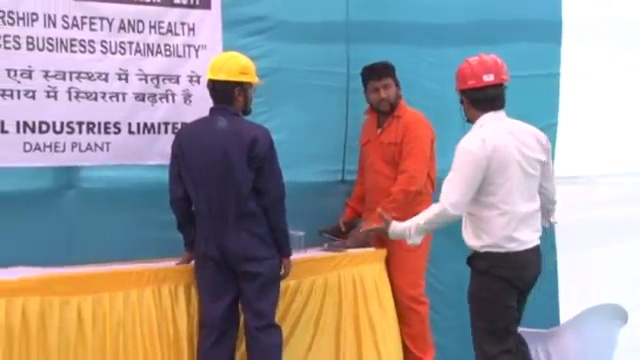helmet: (452, 52, 512, 92), (204, 50, 266, 85)
helmet_off: (359, 59, 403, 119)
helmet_on: (451, 52, 514, 124), (203, 51, 267, 115)
person: (358, 52, 561, 360), (163, 51, 296, 360), (334, 59, 440, 360)
